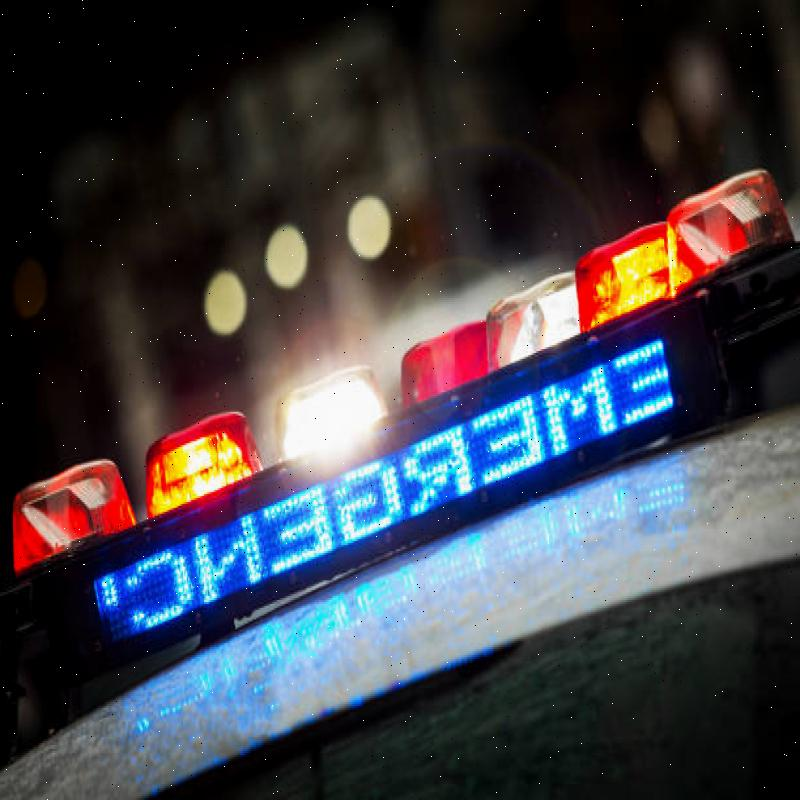AmbulanceSiren: (0, 150, 800, 677)
